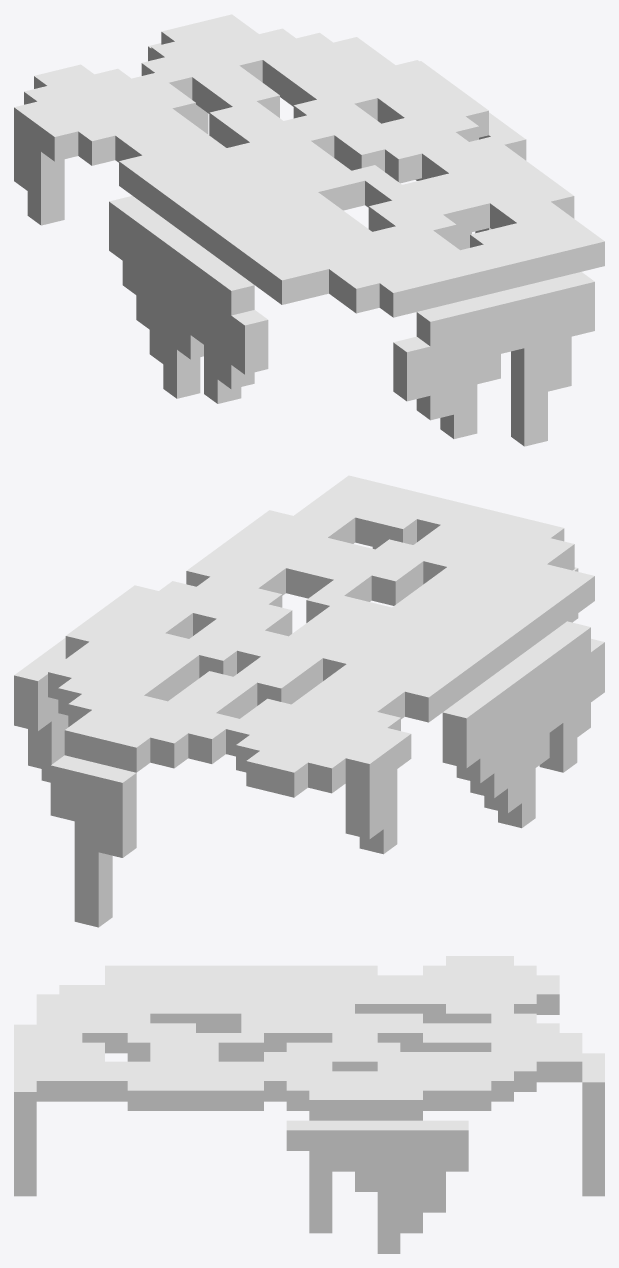
The model's file is Smol-Platform-0.obj.
3 renders of one model, top to bottom at view 1: azimuth 30°, elevation 25°; view 2: azimuth 150°, elevation 25°; view 3: azimuth 270°, elevation 25°, orthographic. The views are drawn at different scales.
Size of the model in its own units: 1.6 by 0.7 by 2.6.
1 material, 1 textured.
